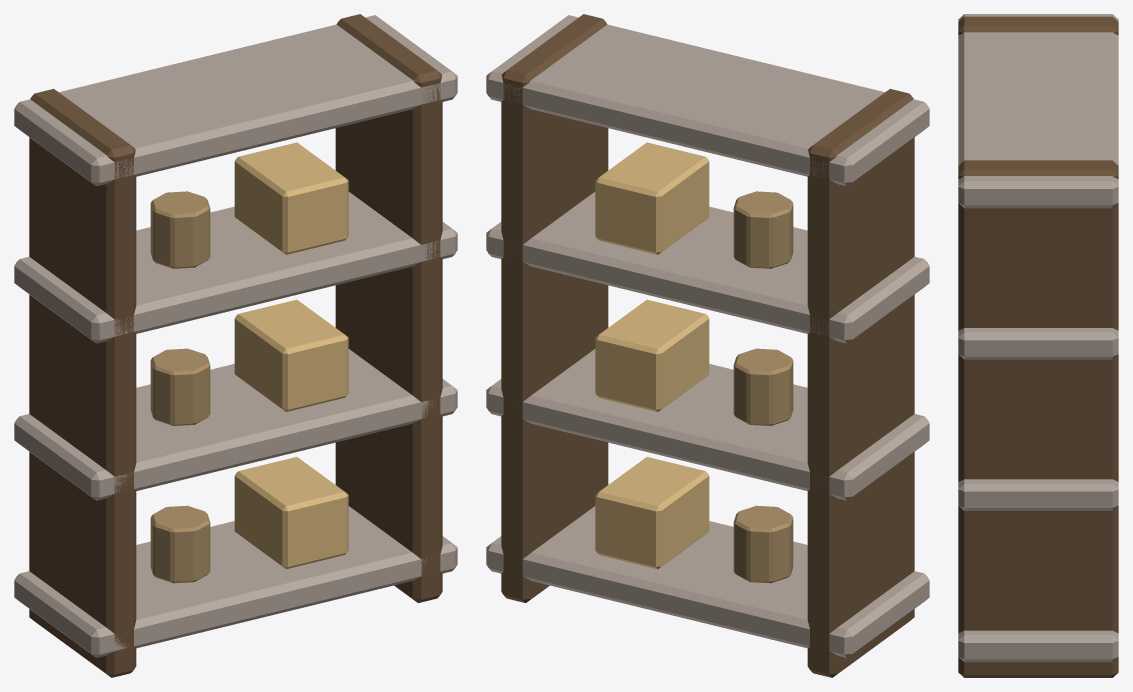
The model's file is town_reagent_shelf.glb.
3 renders of one model, left to right at view 1: azimuth 30°, elevation 25°; view 2: azimuth 150°, elevation 25°; view 3: azimuth 270°, elevation 25°, orthographic. The views are drawn at different scales.
Bounding box in the file's own units: 1.22 × 1.68 × 0.48.
